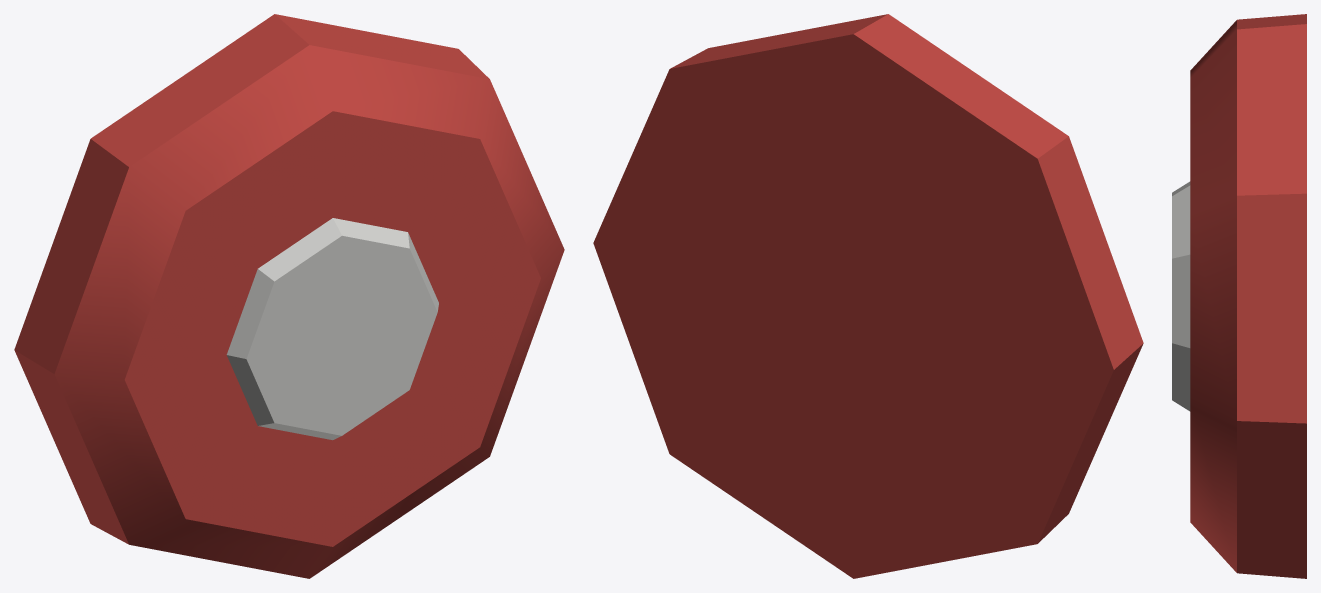
The model's file is clutch_lod2.glb.
3 views of the same model, side by side, from view 1: azimuth 30°, elevation 25°; view 2: azimuth 150°, elevation 25°; view 3: azimuth 270°, elevation 25° (orthographic).
Parts seen in each view (by area): view 1: clutch_lod2; view 2: clutch_lod2; view 3: clutch_lod2.
Boxes of the visible parts, x1=… form: clutch_lod2: x1=14, y1=14, x2=564, y2=578; clutch_lod2: x1=593, y1=14, x2=1143, y2=578; clutch_lod2: x1=1172, y1=14, x2=1306, y2=578.
Size of the model in its own units: 0.196 by 0.196 by 0.044.
